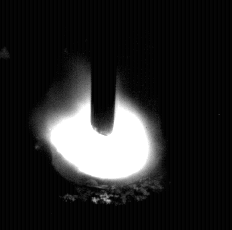arame: (91, 0, 116, 135)
poca: (37, 0, 163, 230)
